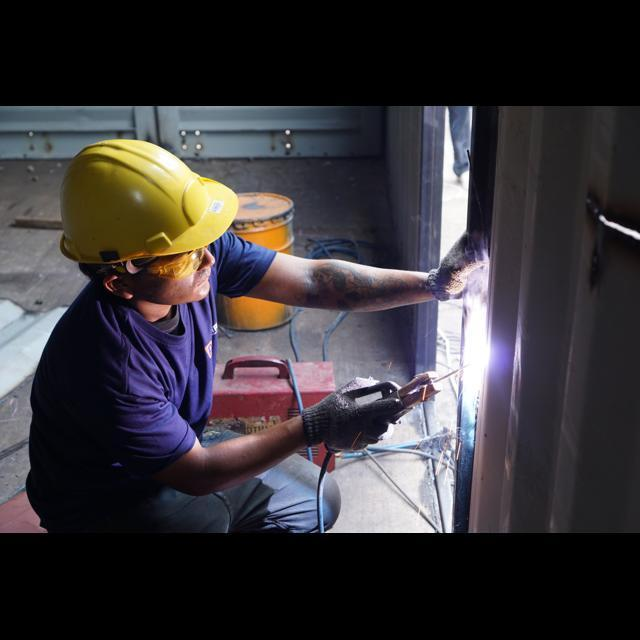helmet: (53, 129, 245, 269)
